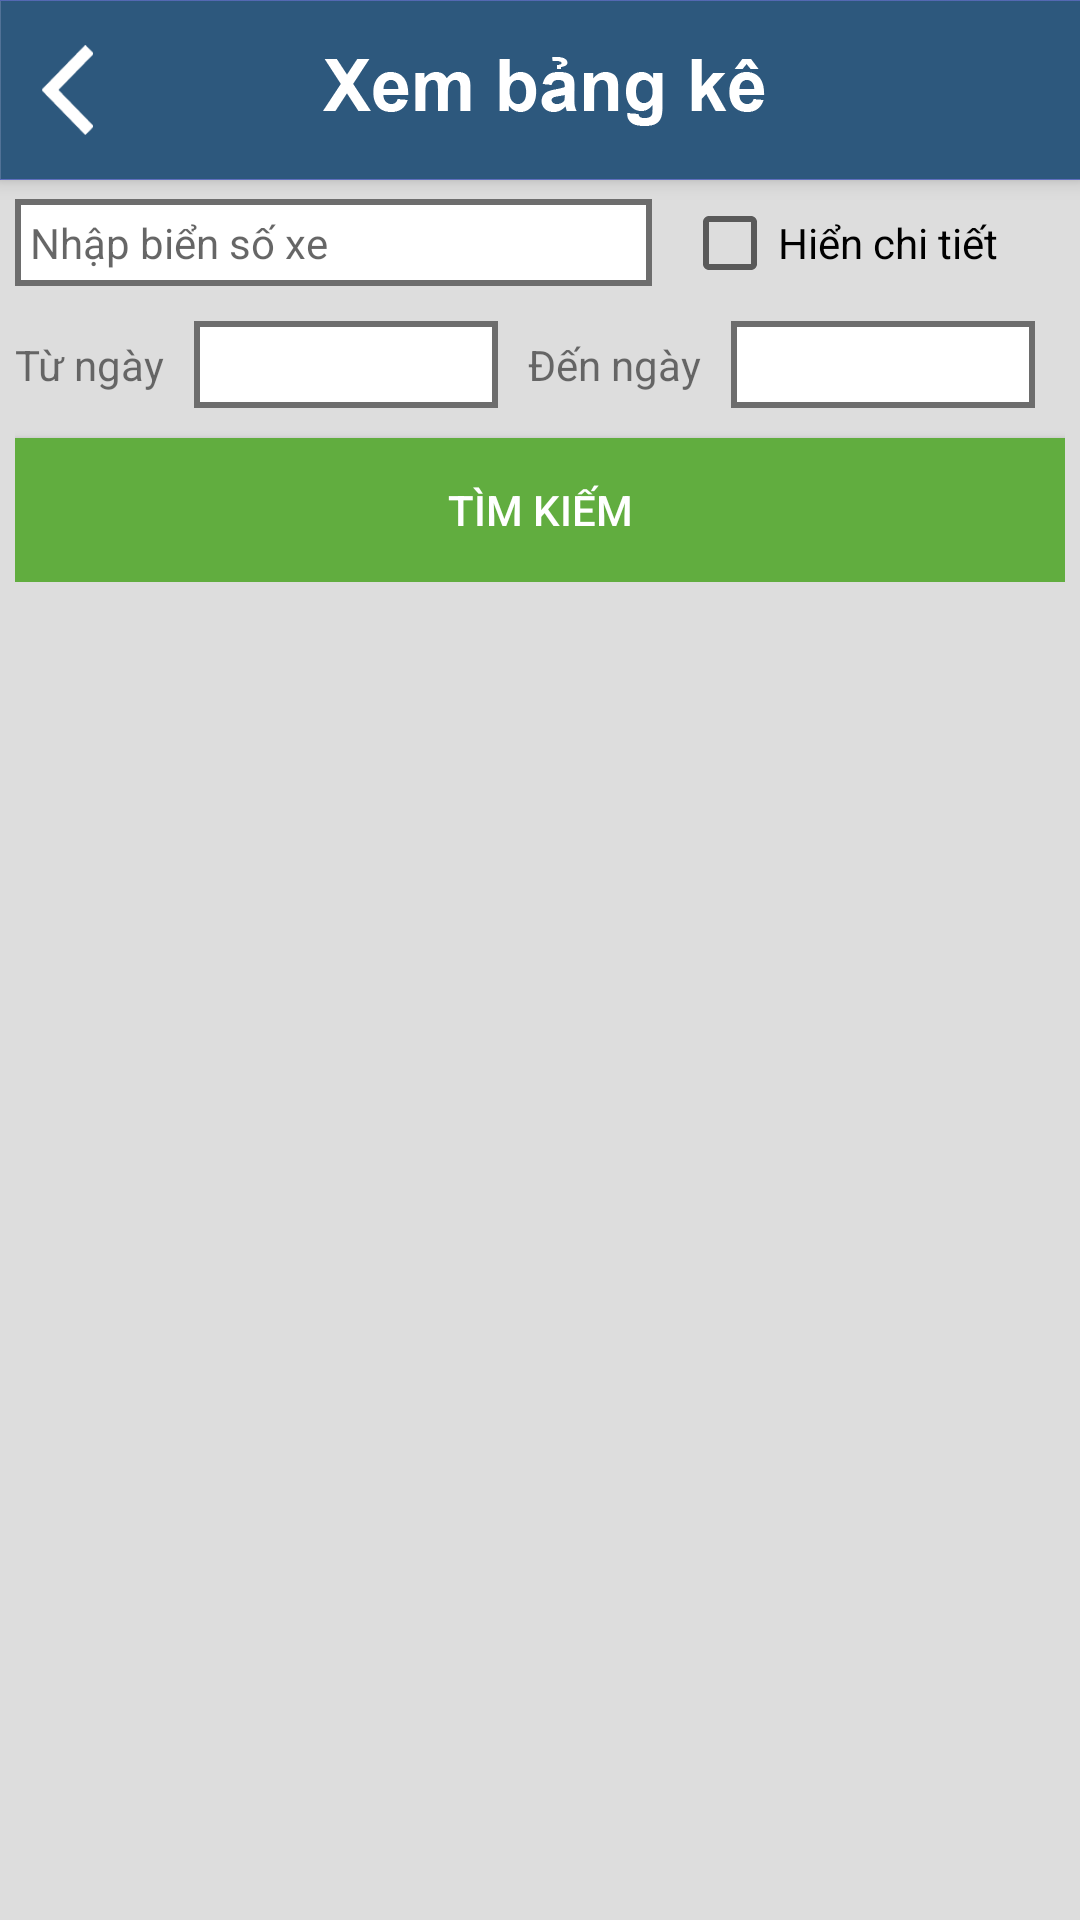

Named icons in this screenshot (1080w x 1920h) and their centers, [x,y]:
back: [90,90]
